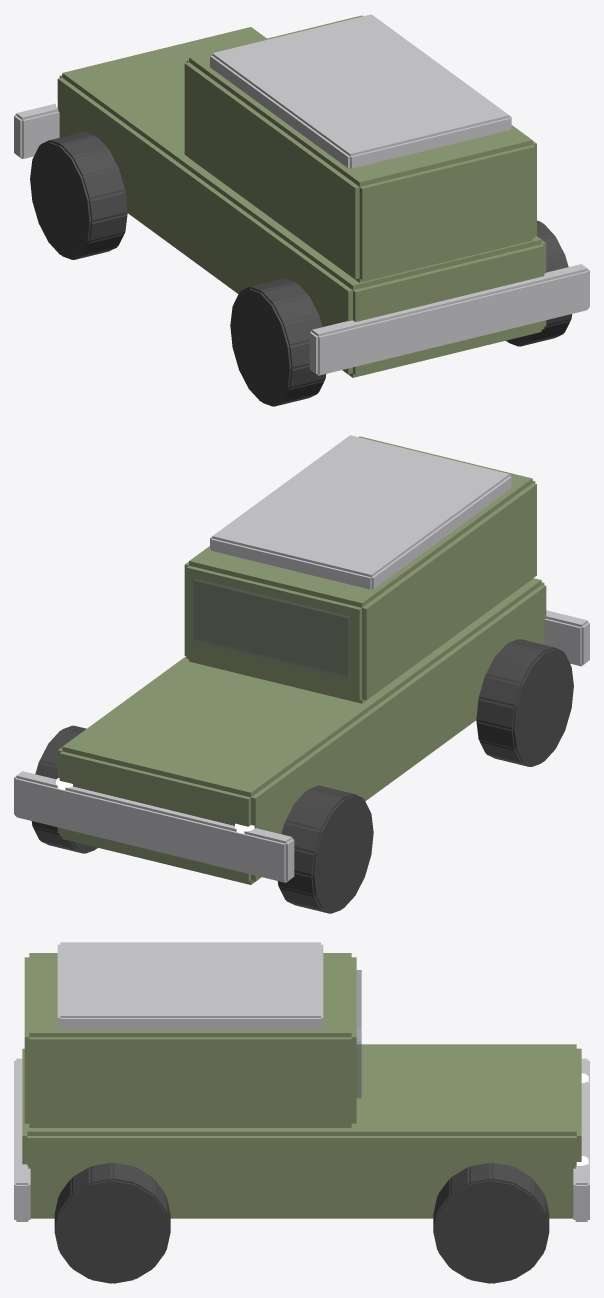
Rendered from offroad-scout.glb.
The picture shows the model from 3 angles, top to bottom: view 1: azimuth 30°, elevation 25°; view 2: azimuth 150°, elevation 25°; view 3: azimuth 270°, elevation 25°; orthographic projection. The views are drawn at different scales.
Parts seen in each view (by area): view 1: offroad-scout_Chassis_Main, offroad-scout_Cabin_Upper, offroad-scout_Roof_Rack, offroad-scout_Bumper_Rear, offroad-scout_Wheel_FR, offroad-scout_Wheel_RR, offroad-scout_Bumper_Front, offroad-scout_Wheel_RL; view 2: offroad-scout_Chassis_Main, offroad-scout_Cabin_Upper, offroad-scout_Roof_Rack, offroad-scout_Bumper_Front, offroad-scout_Windshield_Front, offroad-scout_Wheel_RR, offroad-scout_Wheel_FR, offroad-scout_Bumper_Rear, offroad-scout_Wheel_FL; view 3: offroad-scout_Chassis_Main, offroad-scout_Cabin_Upper, offroad-scout_Roof_Rack, offroad-scout_Wheel_FL, offroad-scout_Wheel_RL, offroad-scout_Bumper_Rear, offroad-scout_Bumper_Front, offroad-scout_Windshield_Front.
Part boxes in pixels (x1,y1,x2,y2): offroad-scout_Chassis_Main: (57,27,546,377); offroad-scout_Cabin_Upper: (184,15,536,282); offroad-scout_Roof_Rack: (210,14,511,168); offroad-scout_Bumper_Rear: (309,264,589,375); offroad-scout_Wheel_FR: (30,132,127,259); offroad-scout_Wheel_RR: (230,278,326,406); offroad-scout_Bumper_Front: (14,103,59,159); offroad-scout_Wheel_RL: (506,220,572,346); offroad-scout_Chassis_Main: (57,578,546,884); offroad-scout_Cabin_Upper: (184,436,536,703); offroad-scout_Roof_Rack: (210,435,511,589); offroad-scout_Bumper_Front: (14,771,294,882); offroad-scout_Windshield_Front: (193,579,349,678); offroad-scout_Wheel_RR: (476,639,573,766); offroad-scout_Wheel_FR: (277,785,373,913); offroad-scout_Bumper_Rear: (544,610,589,666); offroad-scout_Wheel_FL: (31,725,97,853); offroad-scout_Chassis_Main: (22,1044,581,1218); offroad-scout_Cabin_Upper: (24,953,356,1127); offroad-scout_Roof_Rack: (57,942,323,1029); offroad-scout_Wheel_FL: (433,1162,549,1283); offroad-scout_Wheel_RL: (54,1162,170,1283); offroad-scout_Bumper_Rear: (14,1058,30,1221); offroad-scout_Bumper_Front: (573,1058,589,1221); offroad-scout_Windshield_Front: (356,970,361,1098).
Size of the model in its own units: 2.24 by 1.91 by 4.15.
